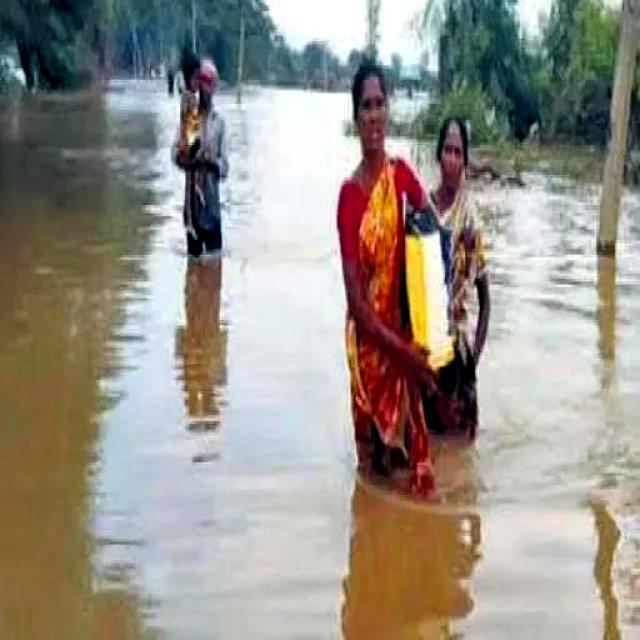civilian: (332, 47, 449, 516), (408, 105, 499, 470), (173, 53, 244, 268), (172, 48, 218, 257)
